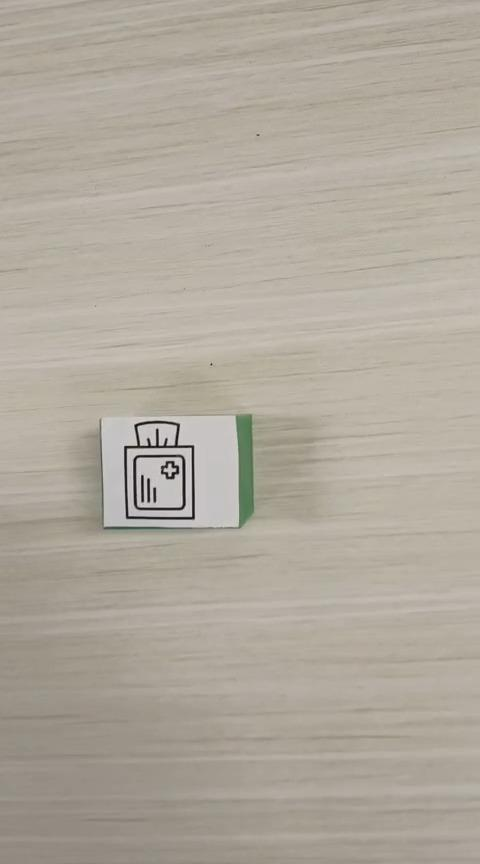Gauze: (99, 411, 254, 529)
